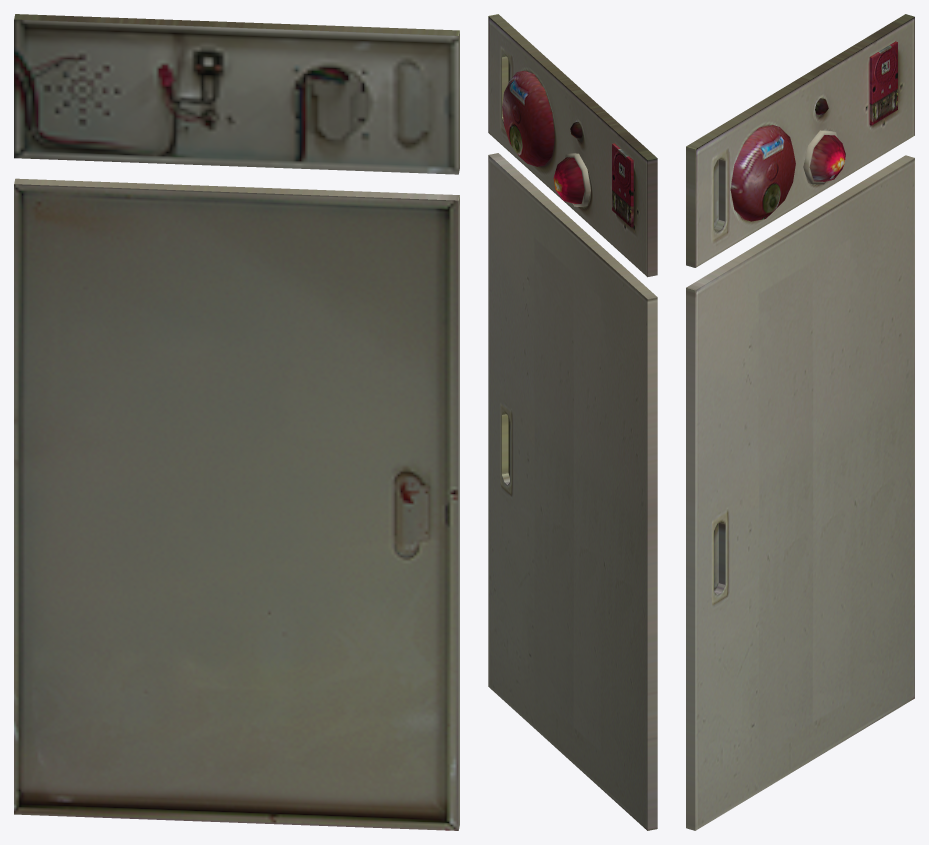
Rendered from alarm_box_door.FBX.
3 renders of one model, left to right at view 1: azimuth 30°, elevation 25°; view 2: azimuth 150°, elevation 25°; view 3: azimuth 270°, elevation 25°, orthographic. The views are drawn at different scales.
Visible parts, largest first — view 1: door_LOD0; view 2: door_LOD0; view 3: door_LOD0.
Boxes of the visible parts, bbox=[...] form: door_LOD0: bbox=[14, 14, 459, 830]; door_LOD0: bbox=[488, 14, 657, 830]; door_LOD0: bbox=[686, 14, 914, 830].
Size of what is drawn, in the model's own units: 17.06 by 40.1 by 12.19.
